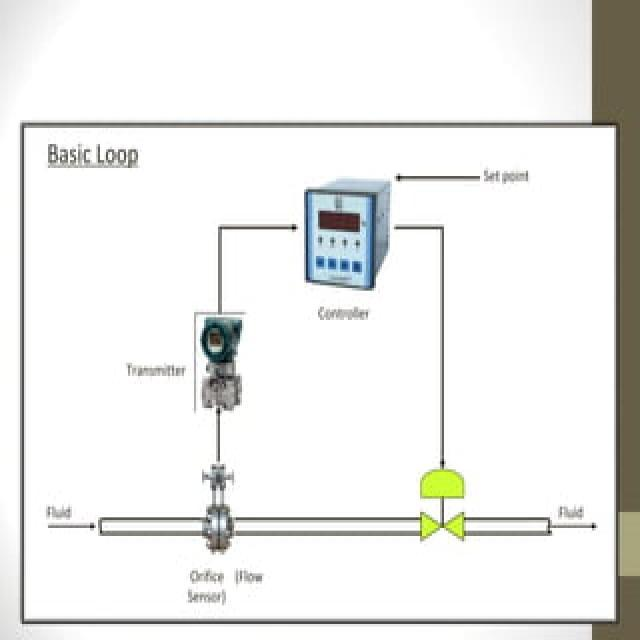Pneumatic-Diaphragm Gate Valve: (411, 462, 477, 560)
